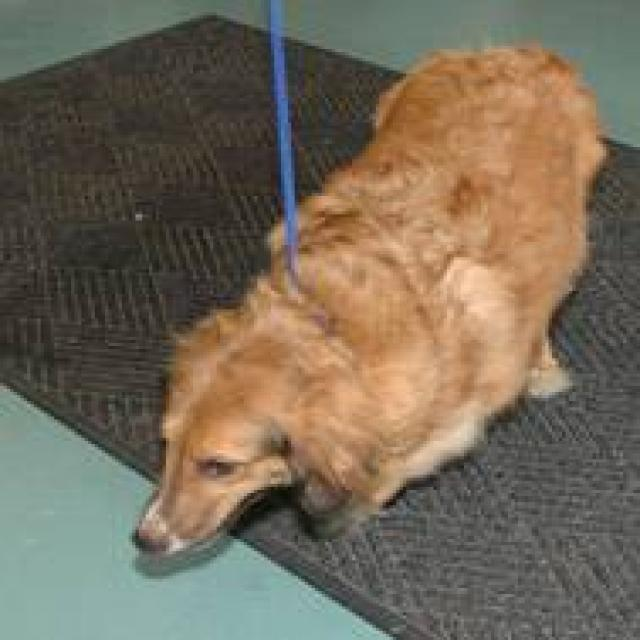dog: (128, 40, 610, 557)
